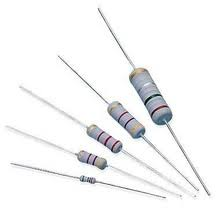resistor: (128, 44, 186, 131), (83, 120, 128, 154), (73, 151, 112, 172), (75, 170, 98, 192)
